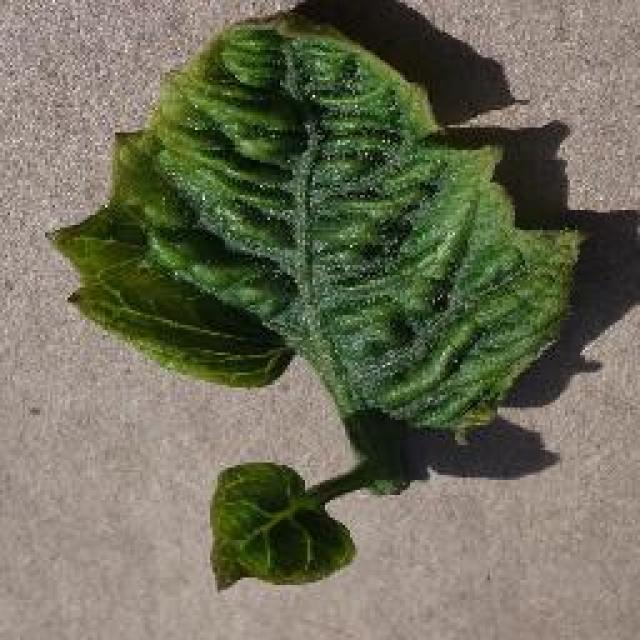Tom_Yellow_Leaf_Curl_Virus: (76, 35, 550, 370)
